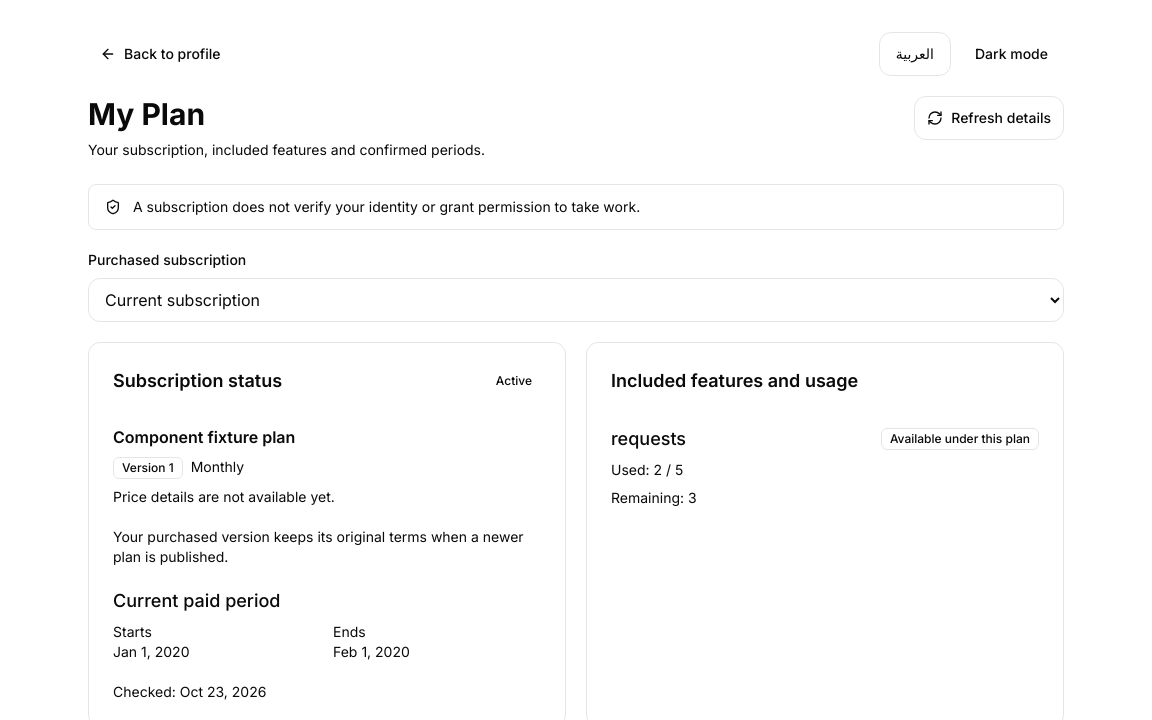
Scenario: server-authoritative My Plan › hides cached private details after a 403 refresh refusal
expect the text "Component fixture plan" is shown: met, box [113,427,295,447]
Click the button with test id "my-plan-refresh": (989,118) [914,96,1064,140]
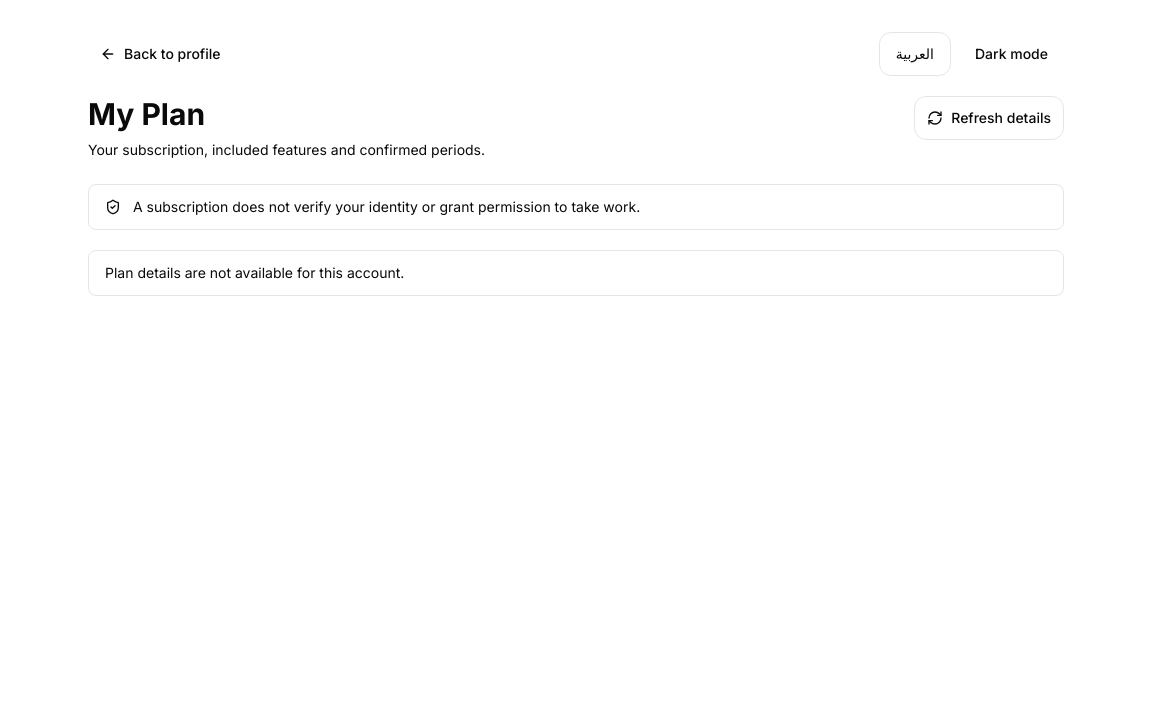
expect the text "Plan details are not available for this account." is shown: met, box [105,264,404,281]
expect the text "Component fixture plan" is gone: met
expect the text with test id "my-plan-status" is gone: met
